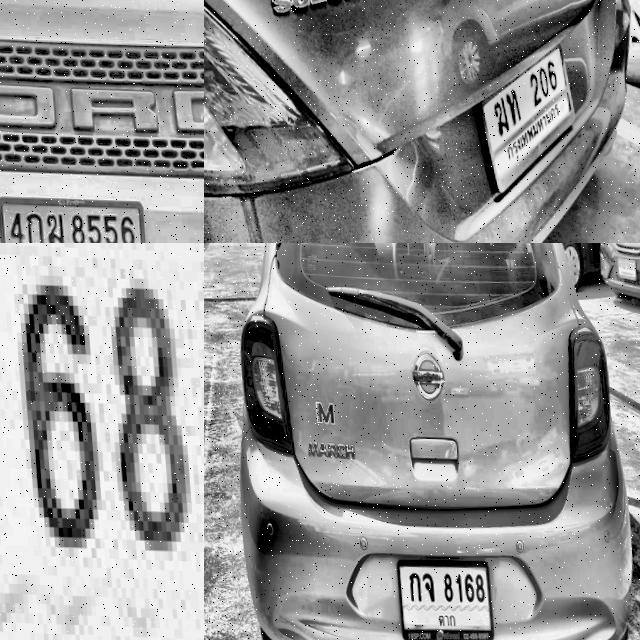license-plate: (0, 243, 204, 640), (462, 34, 575, 201), (383, 550, 488, 640), (0, 190, 139, 243), (615, 250, 633, 279)
